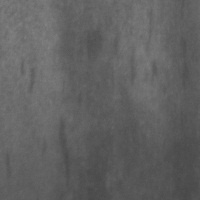inclusion: (137, 6, 164, 90), (53, 114, 78, 192), (171, 30, 193, 103), (23, 60, 40, 103)
